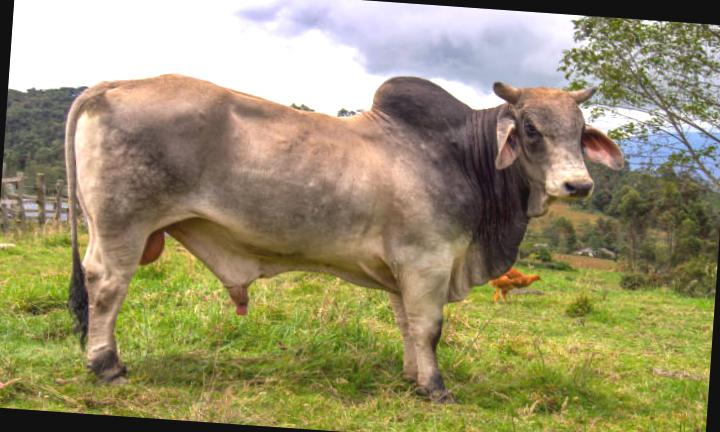Brahman: (67, 74, 623, 397)
